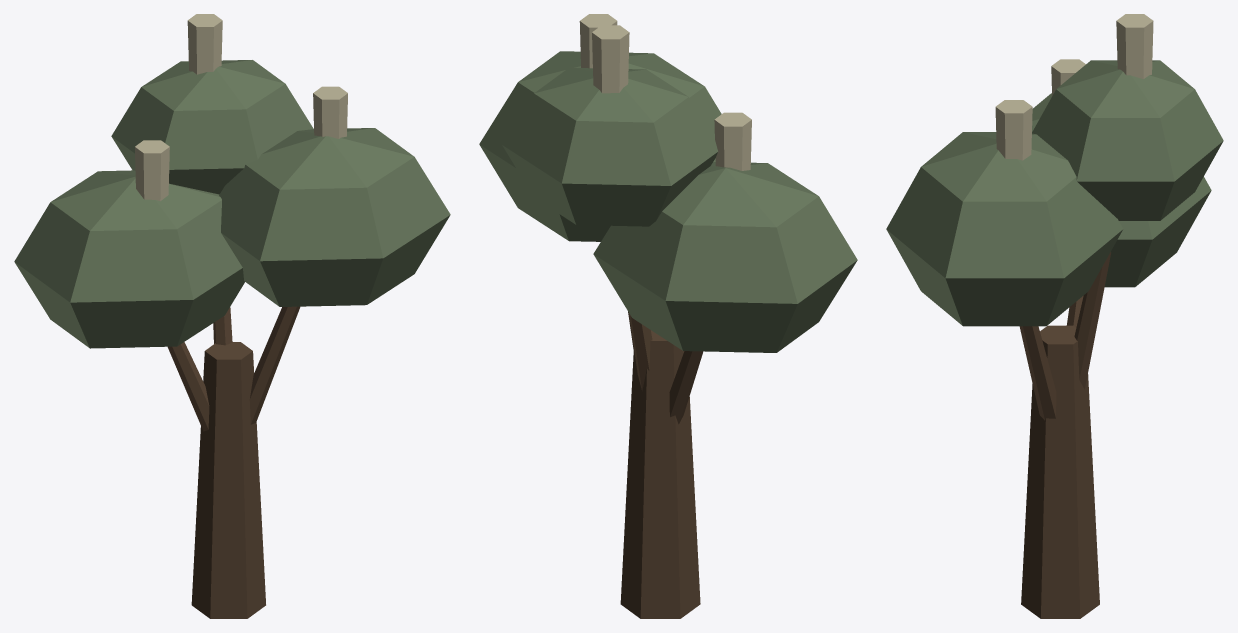
The model's file is prop-banksia.glb.
3 renders of one model, left to right at view 1: azimuth 30°, elevation 25°; view 2: azimuth 150°, elevation 25°; view 3: azimuth 270°, elevation 25°, orthographic. The views are drawn at different scales.
Visible parts, largest first — view 1: banksia; view 2: banksia; view 3: banksia.
Boxes of the visible parts, x1,y1,x2,y2 form: banksia: [14, 14, 450, 618]; banksia: [479, 14, 857, 618]; banksia: [886, 14, 1223, 618].
Bounding box in the file's own units: 0.8923 × 1.4 × 0.7264.
